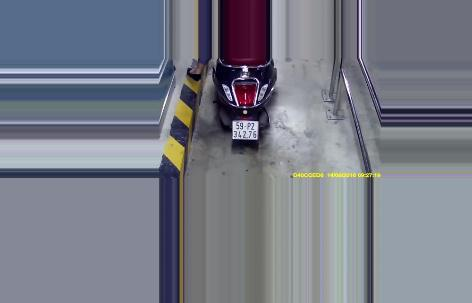License_Plate: (229, 118, 260, 144)
